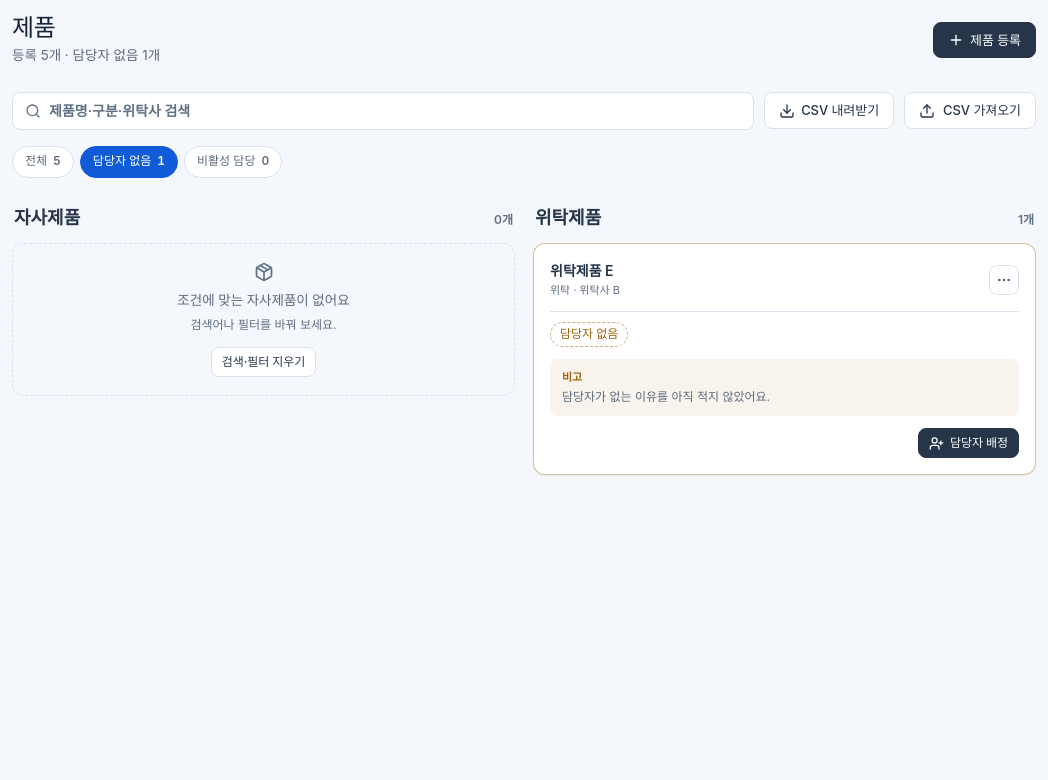
Test: ProductMasterPanel › filters products by owner state and remembers the filter the home callout sets
Expected: the heading "위탁제품 E" is shown, [550,262,614,279]
Expected: the heading "자사제품 A" is not shown
Click the button "전체 5": [43, 162] box [12,146,74,178]
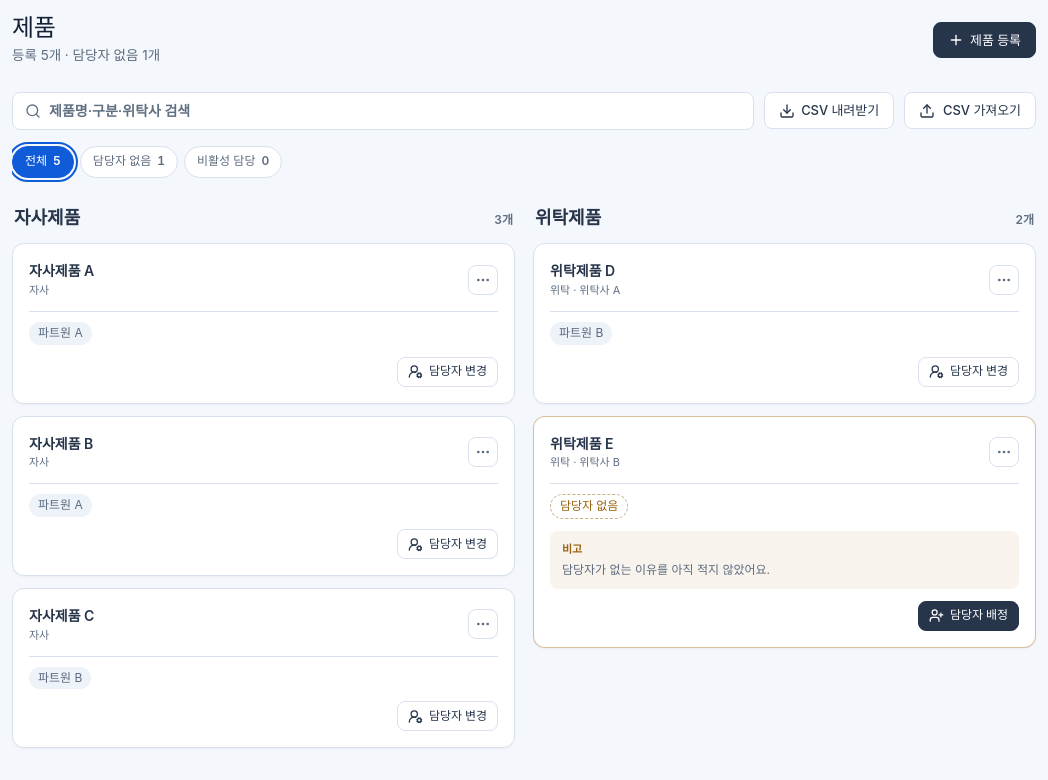
Now the heading "자사제품 A" is shown, box [29,262,94,279]
